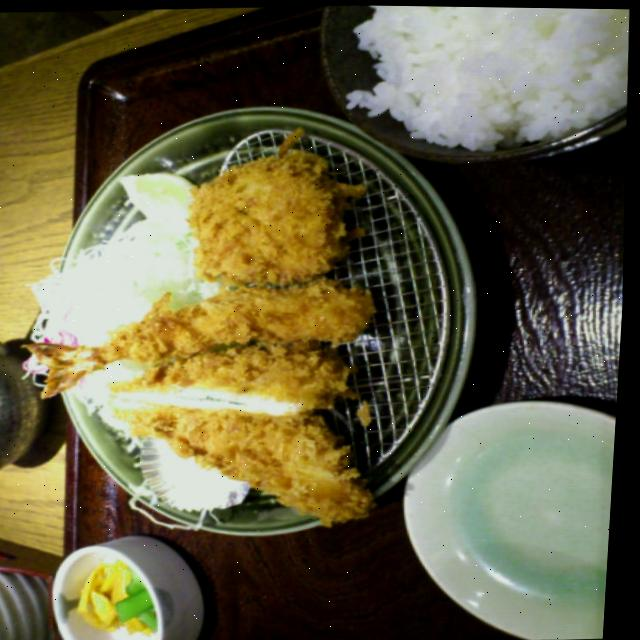炸货点心: (43, 287, 384, 528), (173, 136, 375, 286)
米饭主食: (295, 4, 610, 174)
